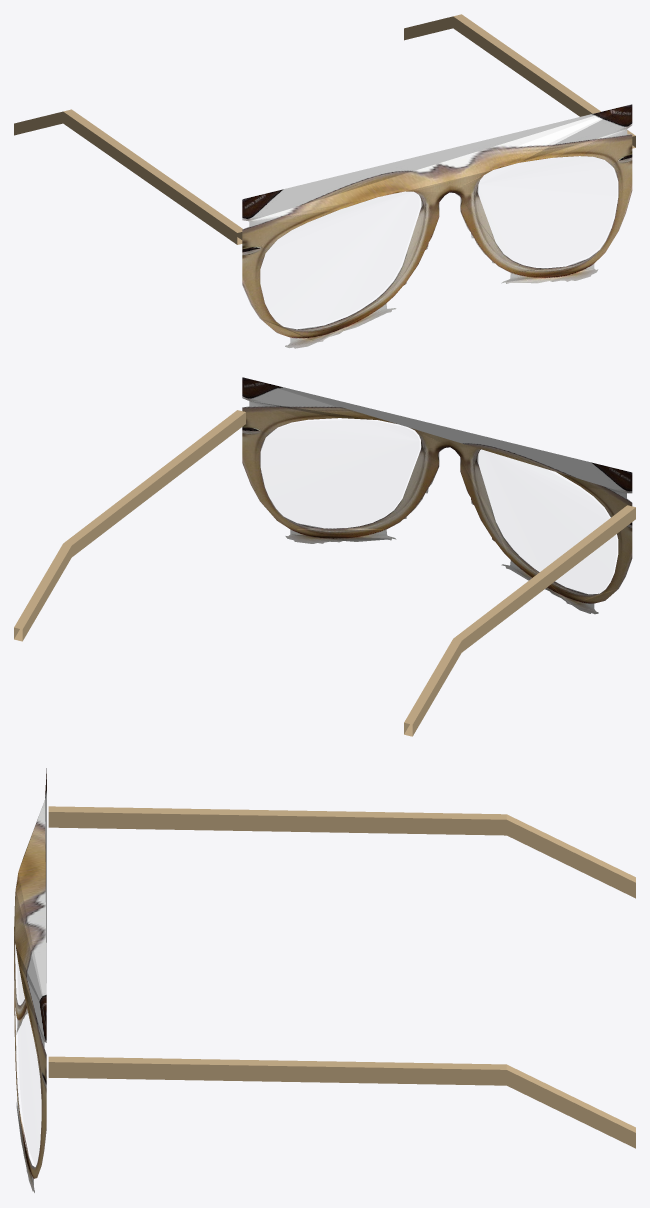
Rendered from gothamstyle-matte-collection-252_matte-tan.glb.
3 views of the same model, one above another, from view 1: azimuth 30°, elevation 25°; view 2: azimuth 150°, elevation 25°; view 3: azimuth 270°, elevation 25° (orthographic). The views are drawn at different scales.
Visible parts, largest first — view 1: frame_front, temple_viewer_left, temple_viewer_right; view 2: frame_front, temple_viewer_left, temple_viewer_right; view 3: temple_viewer_left, temple_viewer_right, frame_front.
Part boxes in pixels (x1,y1,x2,y2): frame_front: (242, 104, 632, 348); temple_viewer_left: (14, 109, 242, 244); temple_viewer_right: (404, 14, 635, 148); frame_front: (242, 377, 632, 614); temple_viewer_left: (404, 505, 635, 736); temple_viewer_right: (14, 410, 245, 641); temple_viewer_left: (48, 806, 635, 898); temple_viewer_right: (48, 1056, 635, 1148); frame_front: (14, 768, 46, 1192).
Bounding box in the file's own units: 0.1391 × 0.0524 × 0.143.
3 materials, 2 textured.
